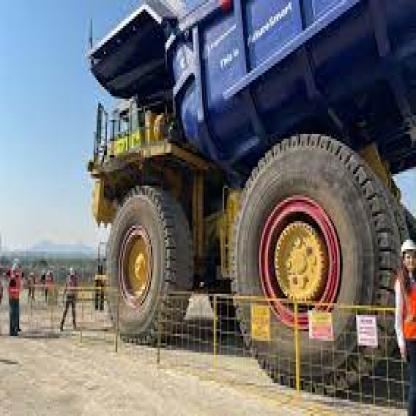person: (381, 195, 414, 414), (2, 249, 24, 334), (59, 258, 82, 338)
